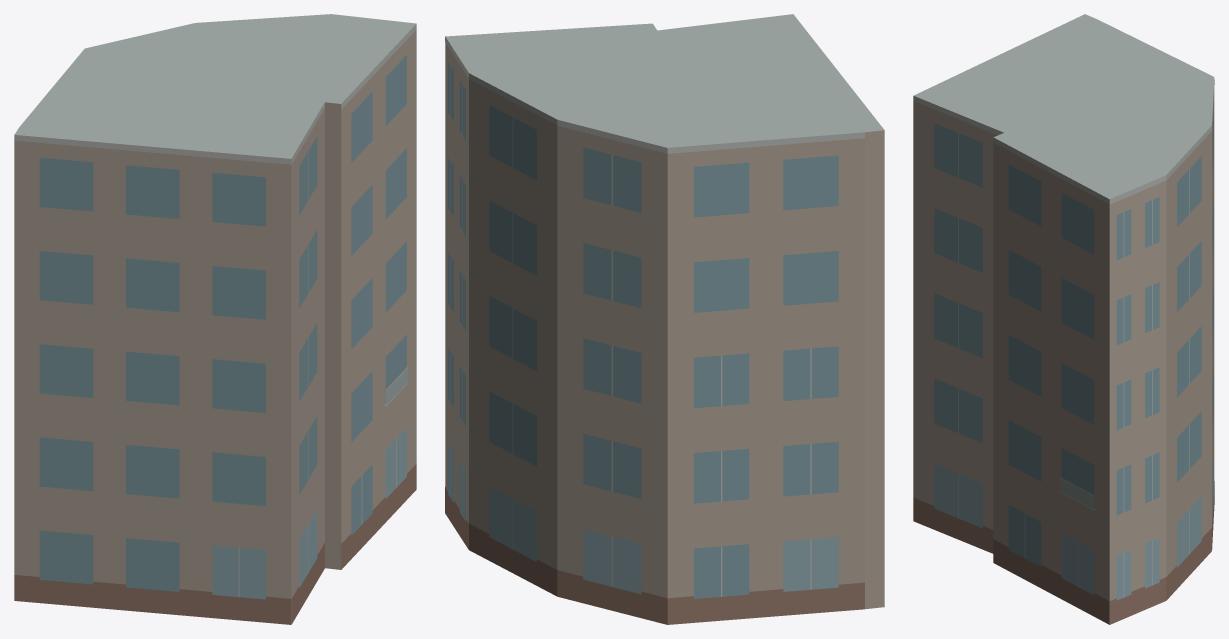
The model's file is survey-upis-32489311.glb.
3 renders of one model, left to right at view 1: azimuth 30°, elevation 25°; view 2: azimuth 150°, elevation 25°; view 3: azimuth 270°, elevation 25°, orthographic. The views are drawn at different scales.
Visible parts, largest first — view 1: survey-upis-32489311.tmp; view 2: survey-upis-32489311.tmp; view 3: survey-upis-32489311.tmp.
Boxes of the visible parts, x1,y1,x2,y2 form: survey-upis-32489311.tmp: (14, 14, 416, 624); survey-upis-32489311.tmp: (445, 14, 884, 624); survey-upis-32489311.tmp: (913, 14, 1214, 624).
Size of the model in its own units: 18.36 by 19.65 by 12.61.
